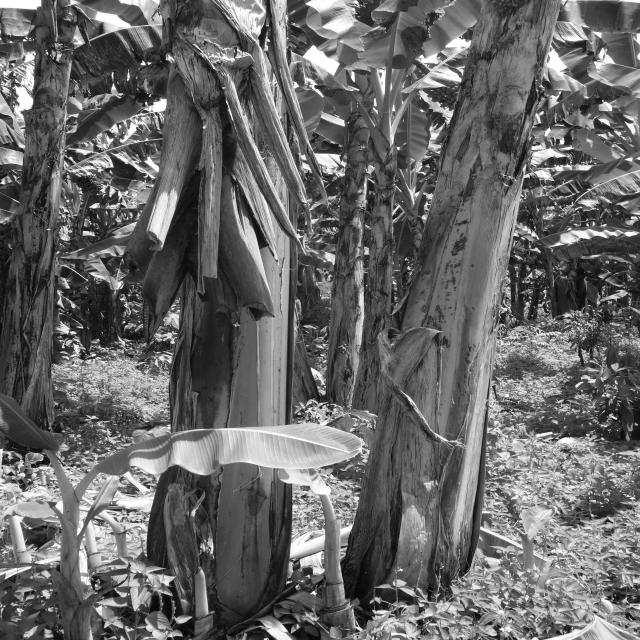Banana-plant: (365, 0, 562, 606), (162, 2, 297, 616), (0, 0, 67, 459), (323, 0, 397, 404)
